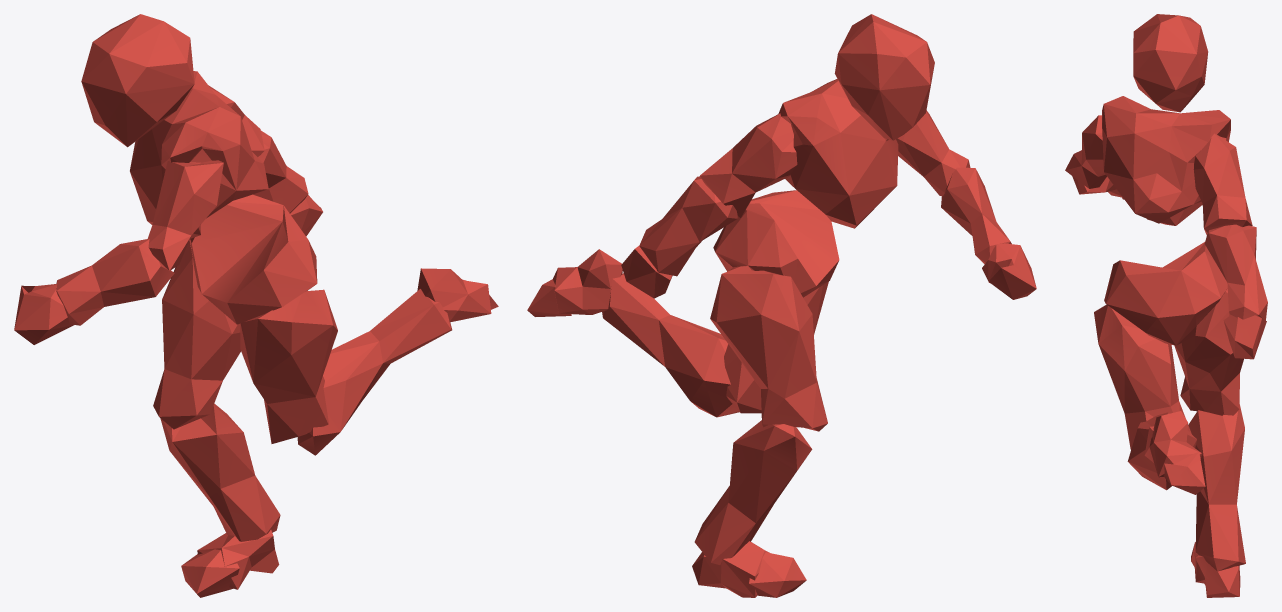
File: 2dancer0195.obj
The picture shows the model from 3 angles, left to right: view 1: azimuth 30°, elevation 25°; view 2: azimuth 150°, elevation 25°; view 3: azimuth 270°, elevation 25°; orthographic projection. The views are drawn at different scales.
Parts seen in each view (by area): view 1: Beta_Surface; view 2: Beta_Surface; view 3: Beta_Surface.
Boxes of the visible parts, box(x1,y1,x2,y2) form: Beta_Surface: box(14, 14, 498, 597); Beta_Surface: box(527, 14, 1036, 597); Beta_Surface: box(1065, 14, 1267, 597).
Size of the model in its own units: 1.46 by 1.69 by 0.5935.
